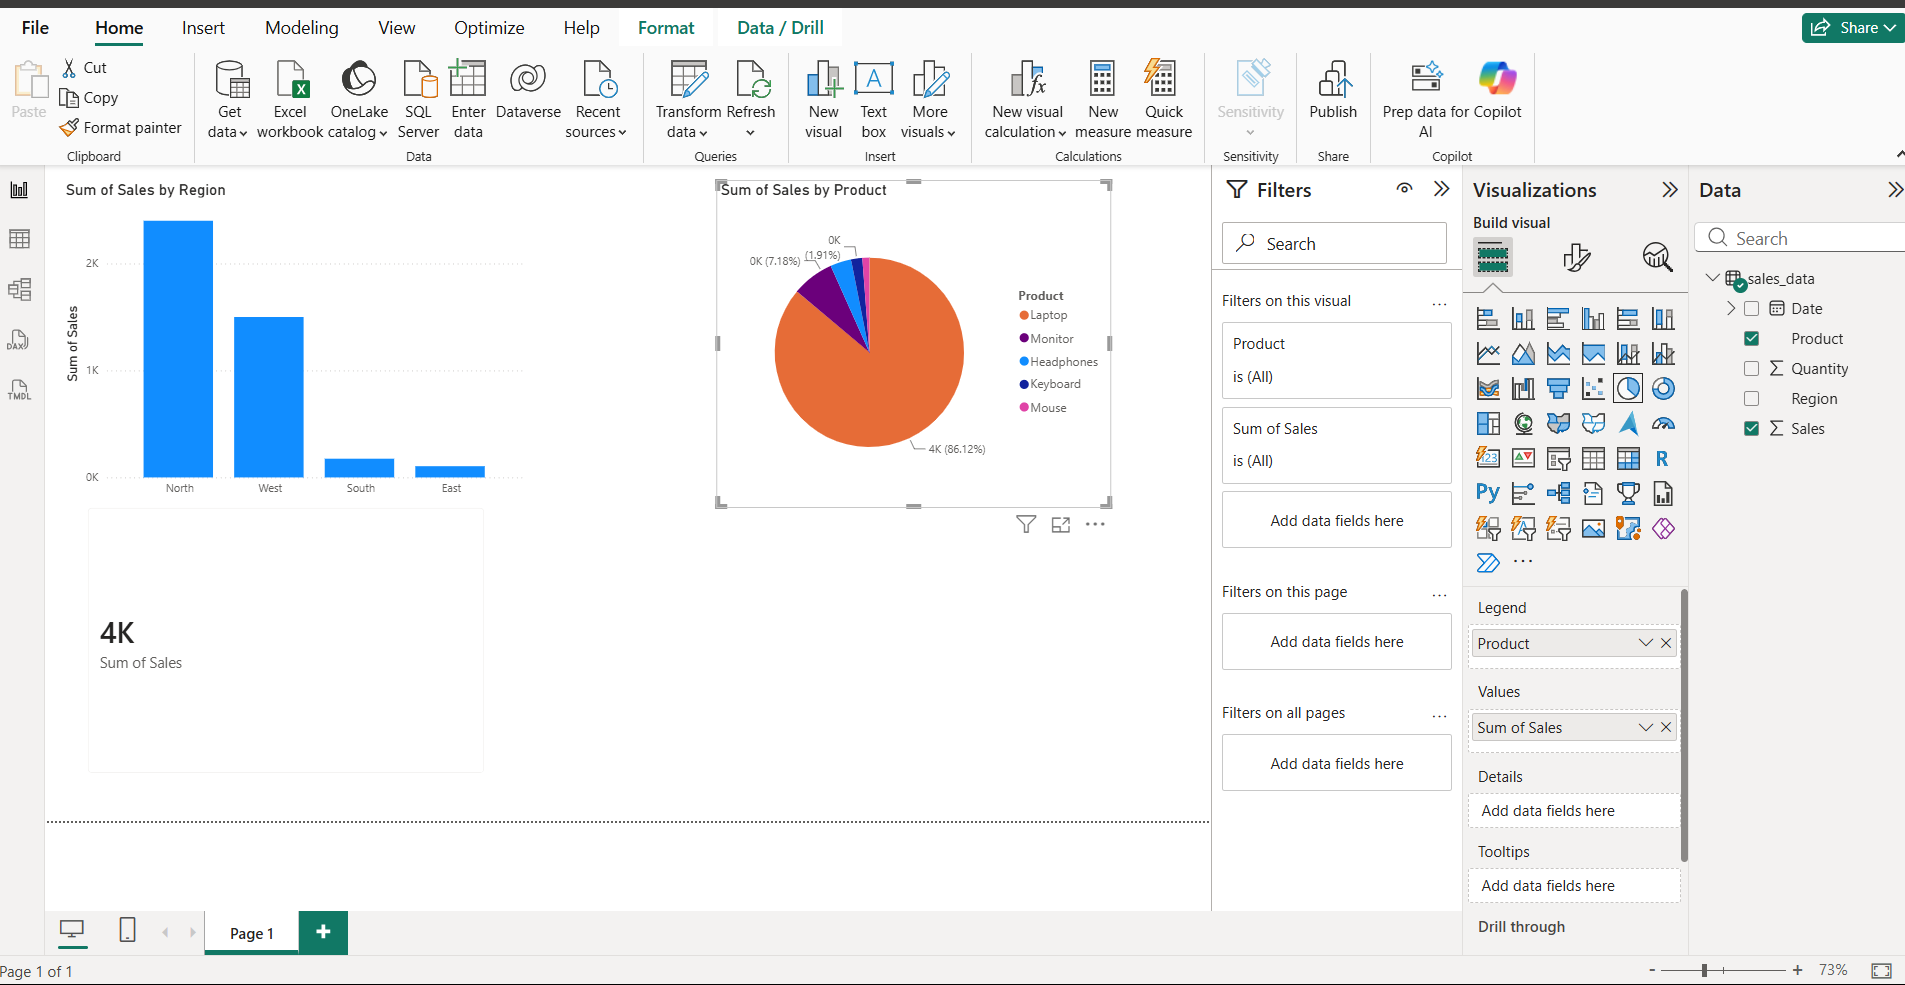

The page's visual inventory and layout, read from the dashboard file:
{"tool":"powerbi","page":{"name":"Page 1","canvas":[1280,720],"ordinal":0},"visuals":[{"type":"clusteredColumnChart","fields":{"Category":["sales_data.Region"],"Y":["Sum(sales_data.Sales)"]},"box":[17.8,16.5,513.2,370.5],"z":0},{"type":"cardVisual","fields":{"Data":["Sum(sales_data.Sales)"]},"box":[30.2,359.5,469.3,325.2],"z":1},{"type":"pieChart","fields":{"Category":["sales_data.Product"],"Y":["Sum(sales_data.Sales)"]},"box":[736.9,16.5,433.6,359.5],"z":2}]}

Visuals, with their boxes in screenshot pixels (x1, y1, x2, y2):
clusteredColumnChart - sales_data.Region x Sum(sales_data.Sales): x1=123 y1=7 x2=817 y2=508
cardVisual - Sum(sales_data.Sales): x1=140 y1=471 x2=775 y2=911
pieChart - sales_data.Product x Sum(sales_data.Sales): x1=1096 y1=7 x2=1682 y2=494
